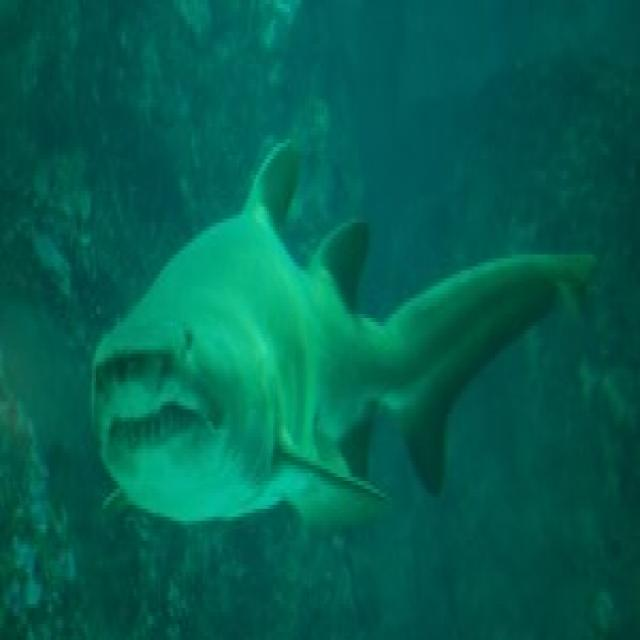Shark: (93, 126, 603, 535)
